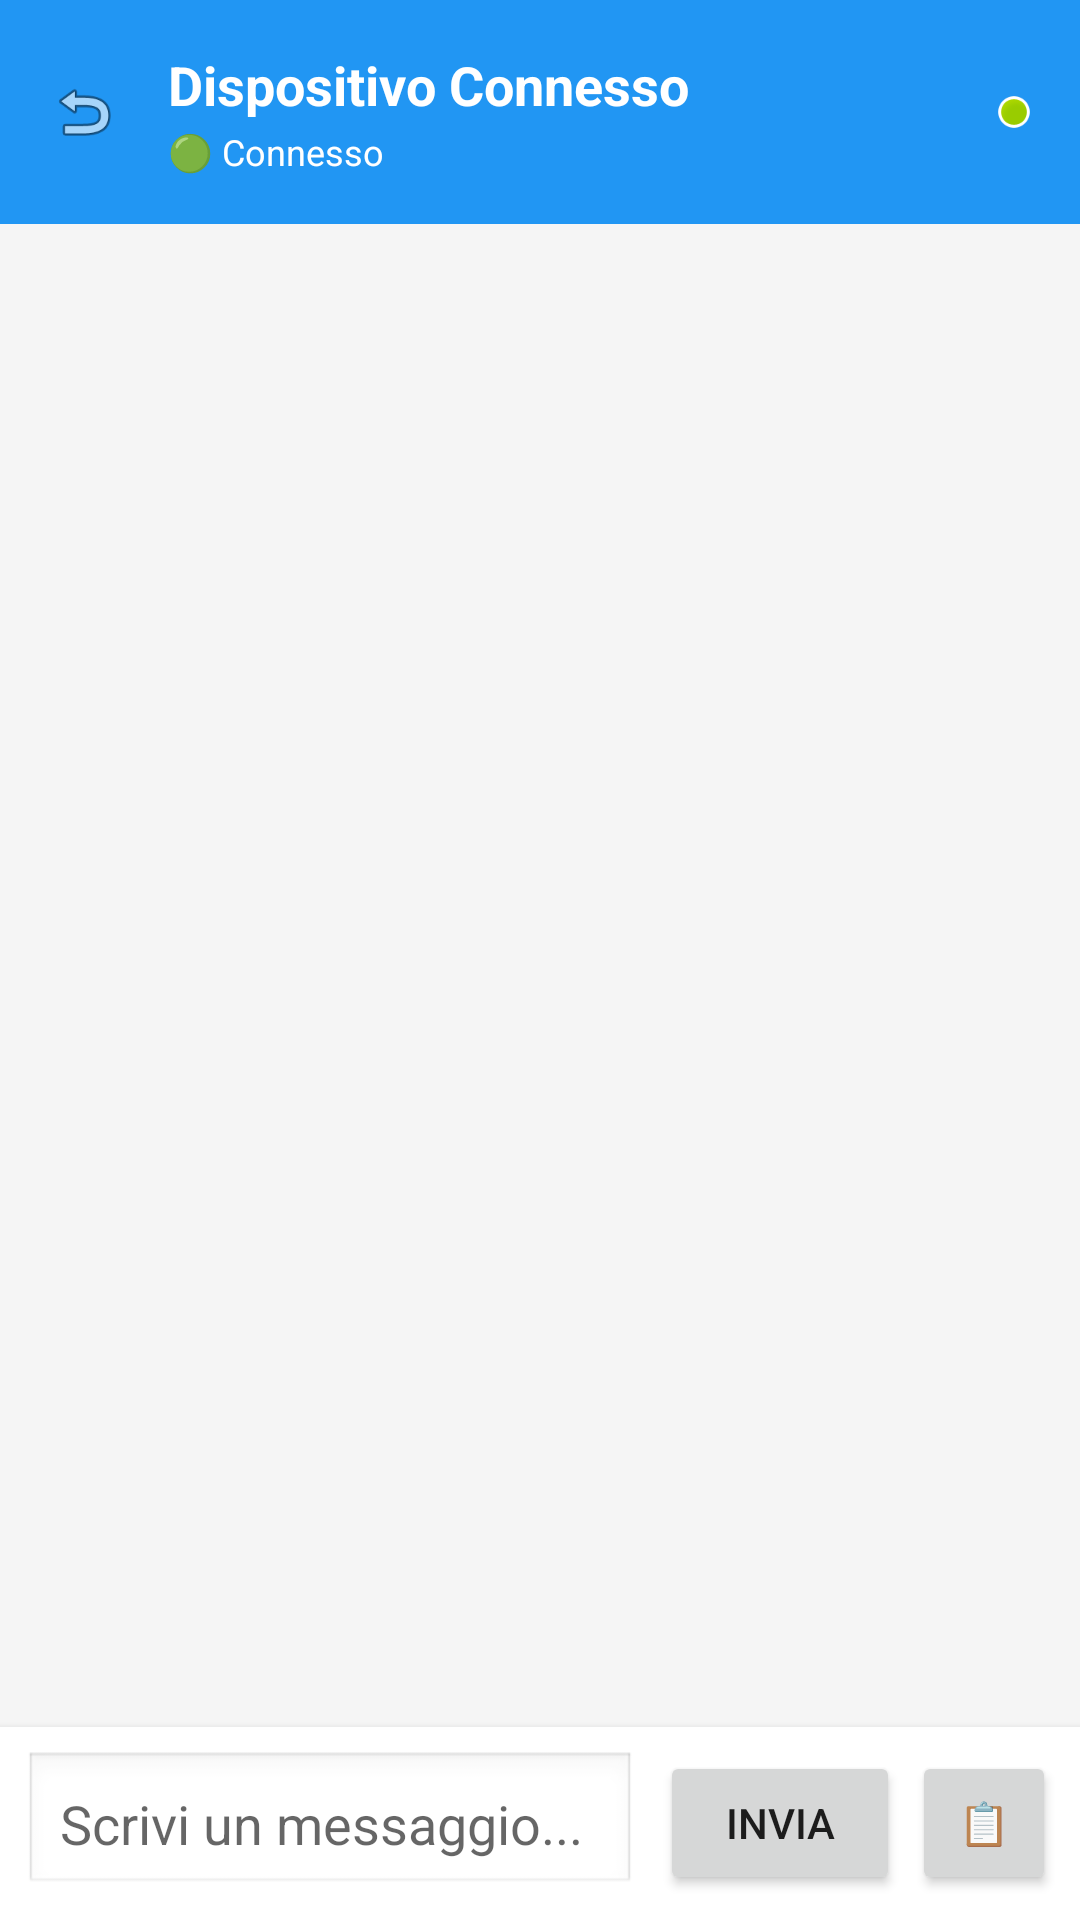

Screen size 1080*1920. Icon name, then its center in pixels as (x,y):
presence online: (1014,112)
revert: (85,112)
